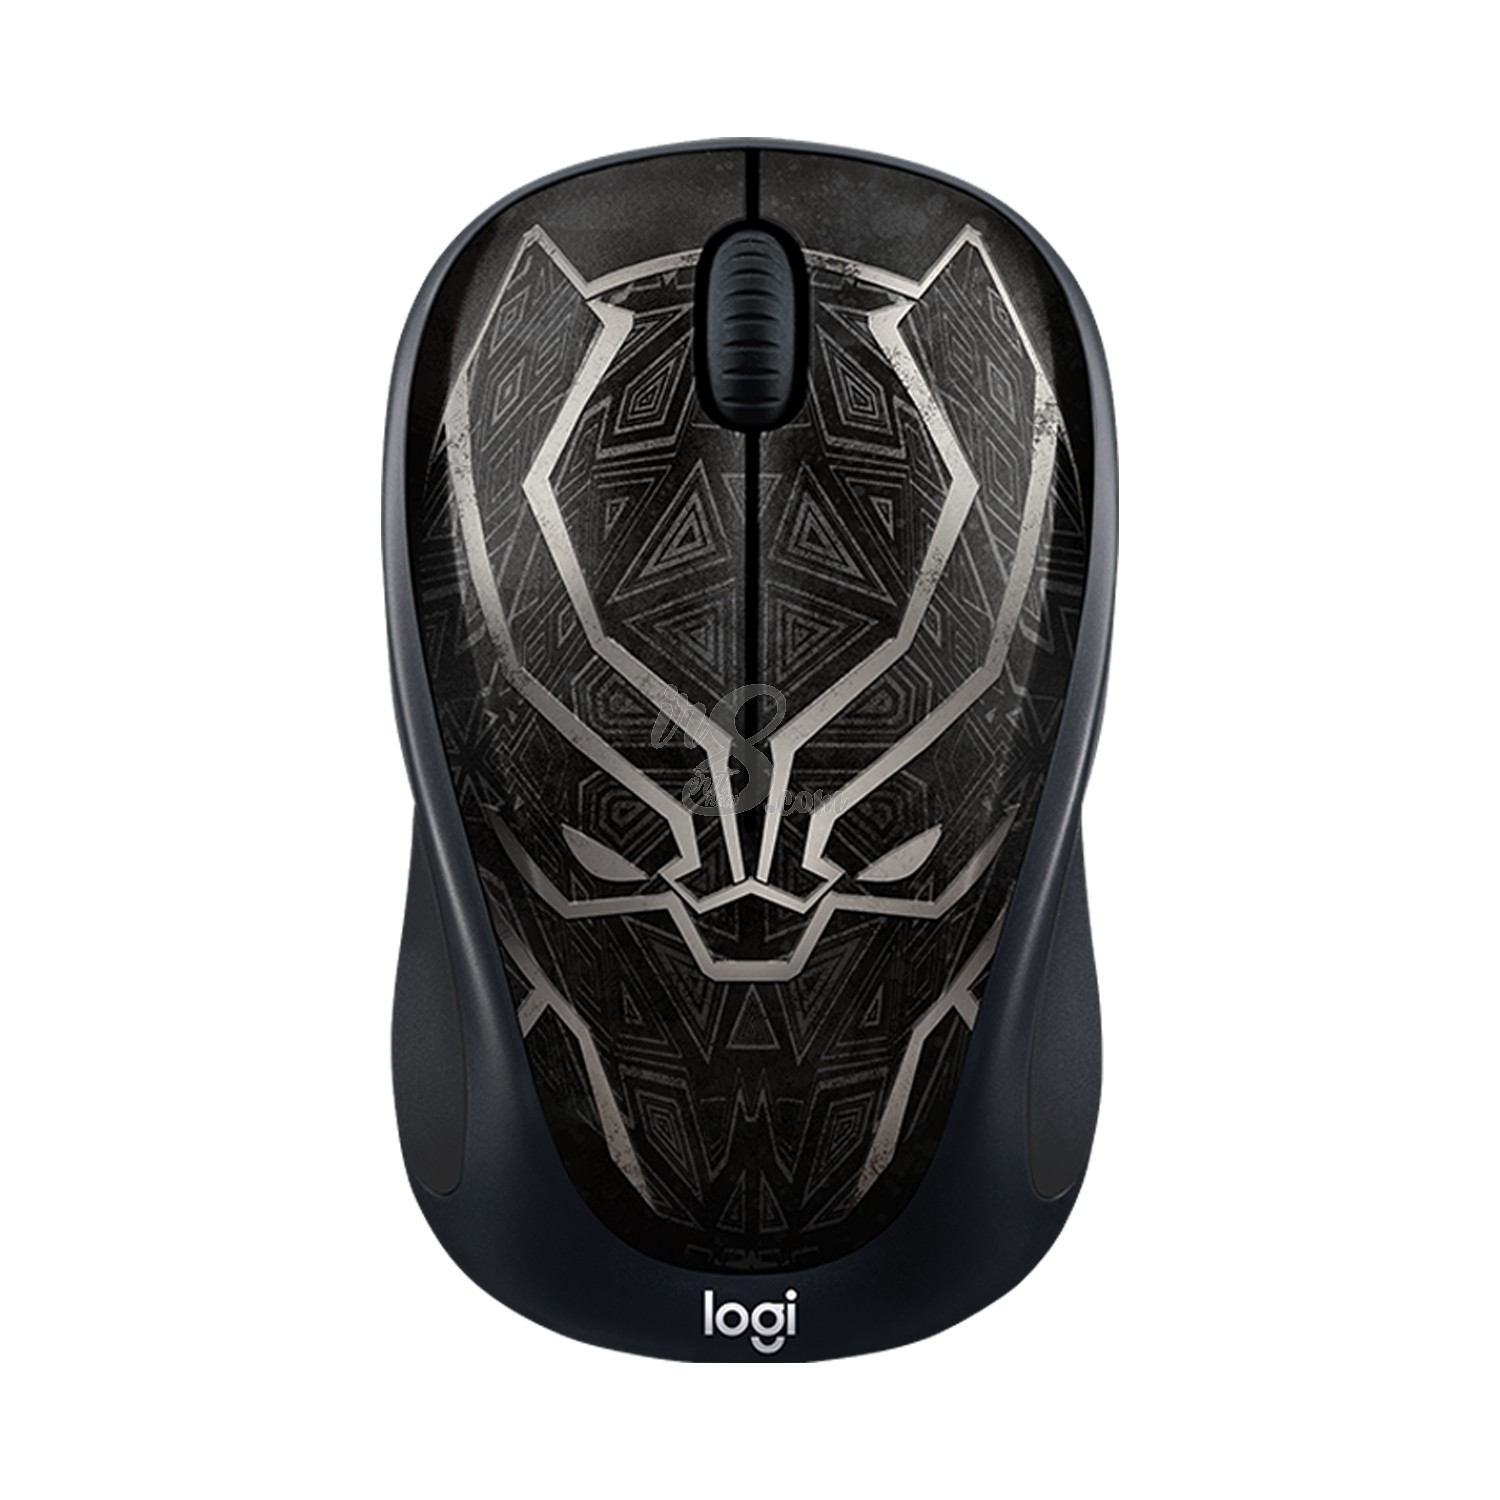Mouse: (338, 121, 1135, 1398)
